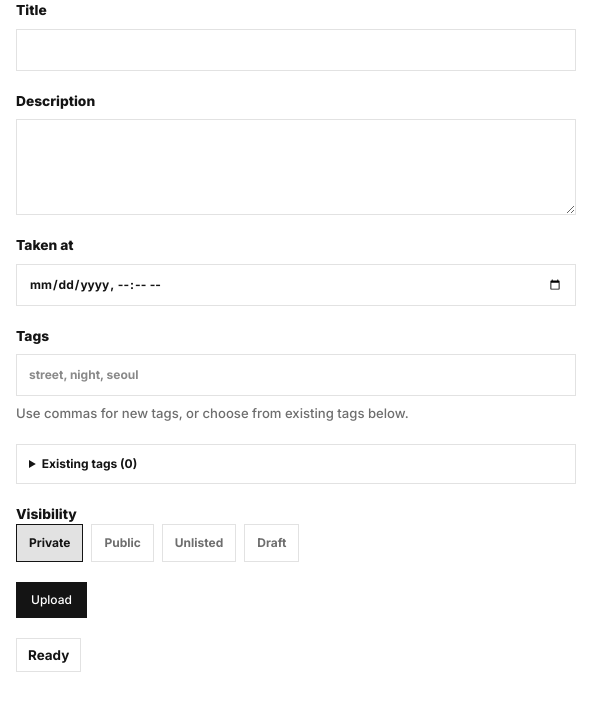
Test case: UploadPageClient › selects existing tags without reading a stale event target
(page scrolled)
Click the heading "Existing tags (0)": (89, 463) [42, 456, 137, 470]
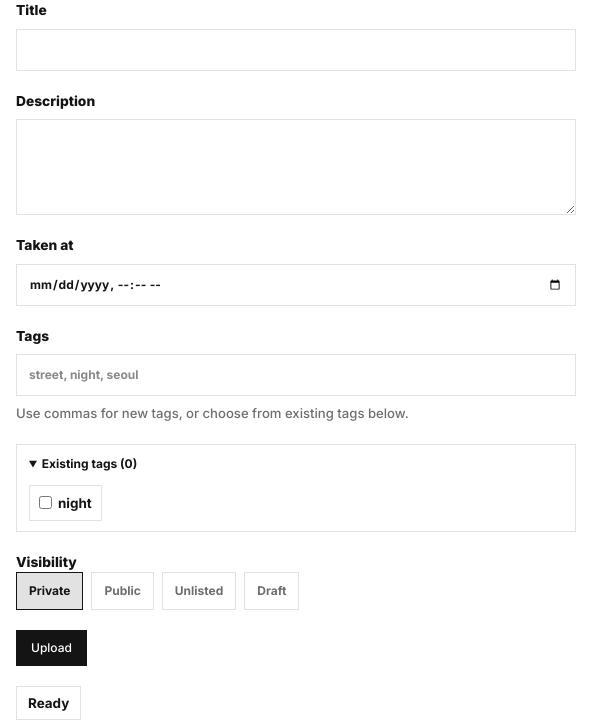
Click the checkbox labelled "night": (46, 503) [39, 496, 52, 509]
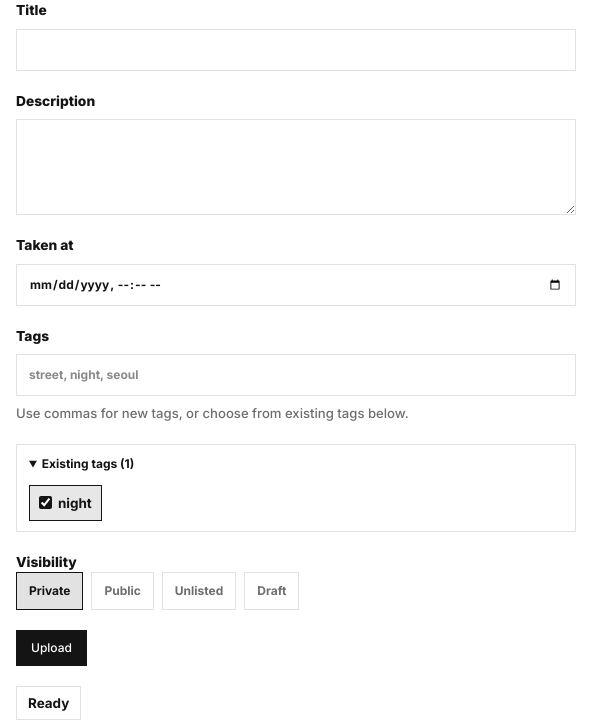
Expected: the heading "Existing tags (1)" is shown, [42, 456, 134, 470]
